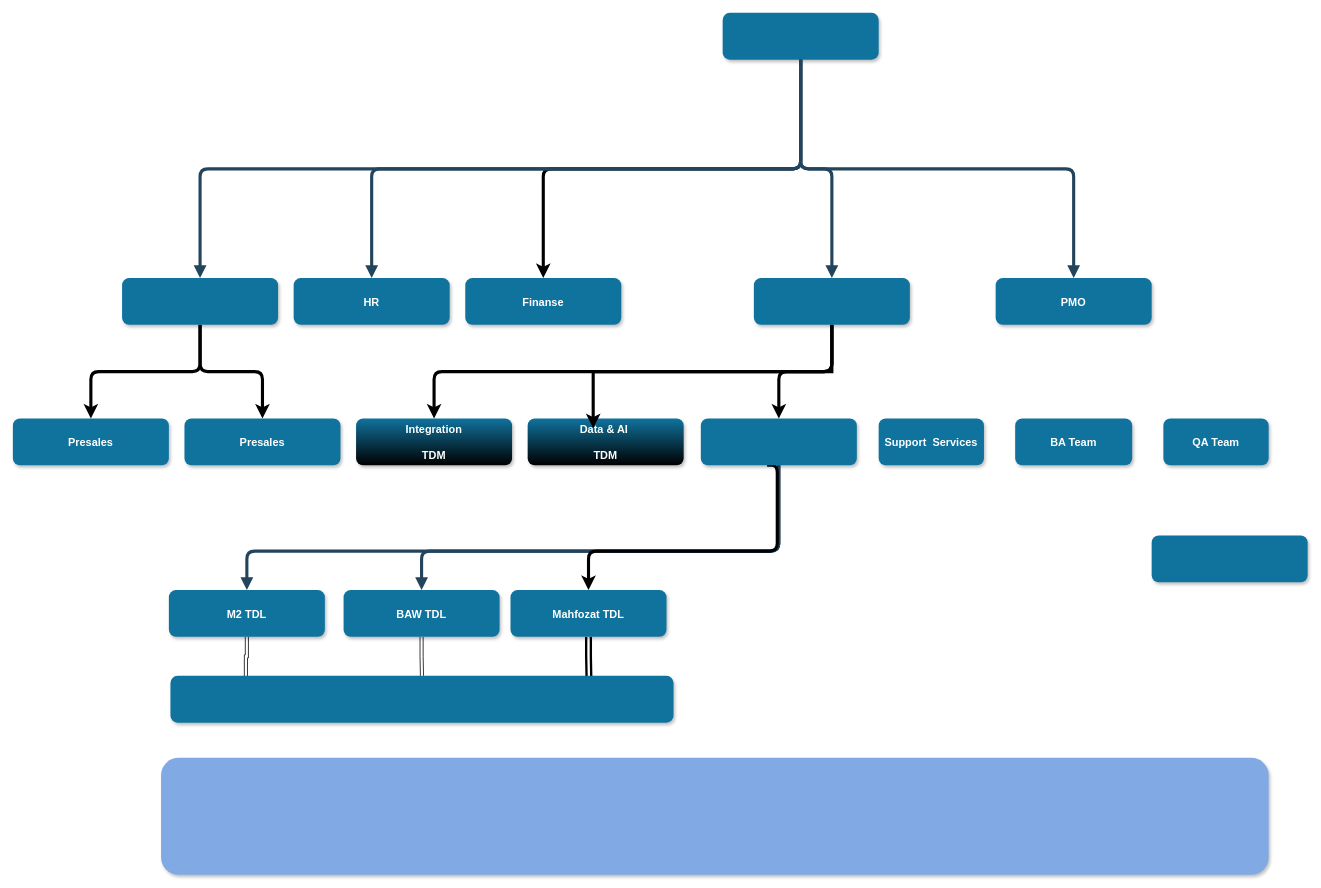
This 1321x888 diagram has some shape labels left out. Here are the shapes that lost their labels. From the top down, the centre of each, then its label:
point (801, 37): CEO
point (200, 302): Market & Sales Dept
point (832, 302): CTO
point (779, 442): Automation TDM
point (1230, 559): PM Team
point (422, 700): Egypt Development
point (715, 817): DEV OPS JIRA Regulatory and Enforcement Process
